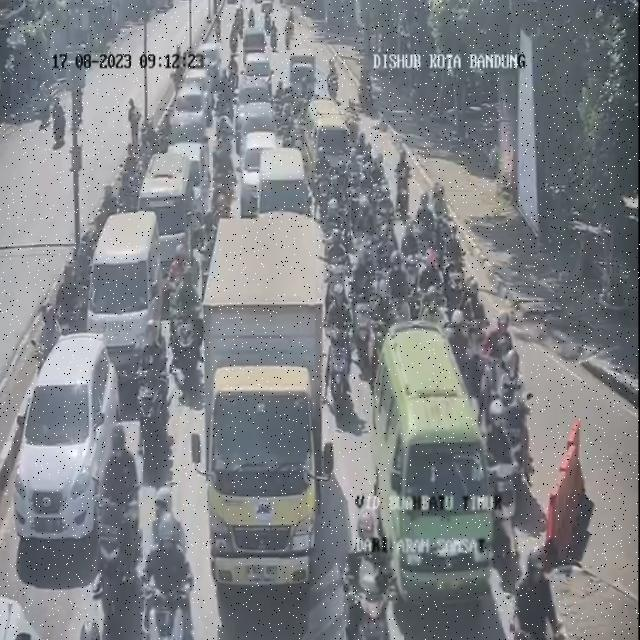cars: (382, 328, 502, 631), (15, 332, 121, 536), (84, 209, 161, 387), (138, 154, 200, 286), (254, 148, 308, 220), (168, 112, 208, 193), (311, 110, 352, 186), (240, 132, 279, 208), (237, 104, 276, 159), (287, 55, 318, 119), (177, 85, 212, 138), (238, 78, 272, 126), (196, 44, 225, 94), (254, 0, 278, 54), (247, 53, 274, 95), (285, 52, 316, 88), (243, 28, 270, 63)
motorcycle: (145, 483, 194, 639), (480, 389, 527, 549), (101, 426, 143, 576), (487, 314, 530, 436), (346, 550, 404, 640), (325, 277, 360, 415), (516, 555, 564, 640), (170, 277, 202, 390), (356, 499, 386, 612), (144, 320, 174, 406), (460, 271, 488, 354), (373, 276, 397, 370), (353, 246, 375, 346), (418, 180, 442, 264), (442, 217, 466, 296), (428, 180, 450, 264), (354, 204, 379, 270), (389, 248, 408, 332), (325, 200, 349, 263), (326, 226, 348, 294), (213, 141, 236, 205), (375, 220, 401, 276), (400, 216, 422, 280), (312, 148, 333, 215), (394, 145, 412, 221), (422, 247, 442, 313), (344, 150, 367, 203), (354, 127, 374, 185), (423, 285, 444, 334), (281, 86, 298, 146), (372, 149, 388, 210), (350, 125, 368, 172), (346, 96, 362, 140), (291, 98, 304, 146), (282, 6, 294, 50), (351, 118, 368, 146), (327, 61, 337, 103)
truck: (193, 297, 327, 582)
